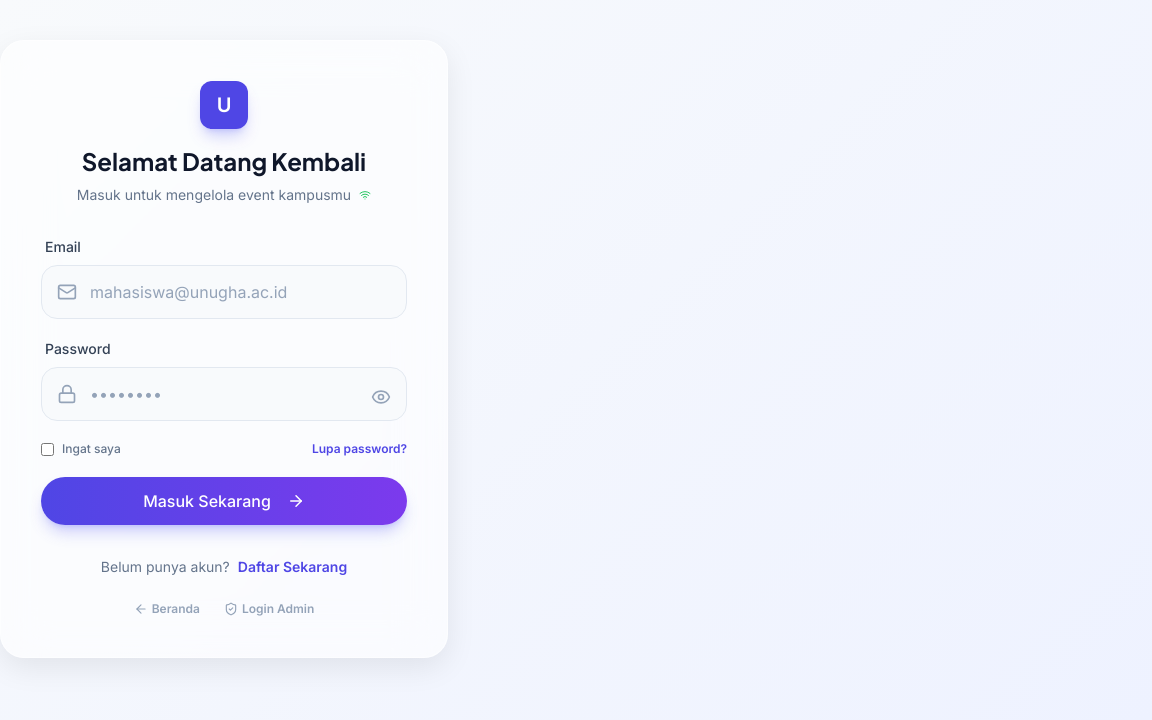
Test: Login Page › switches to register mode
Click the button "Daftar Sekarang". click: [292, 567]
box: [238,557,347,577]
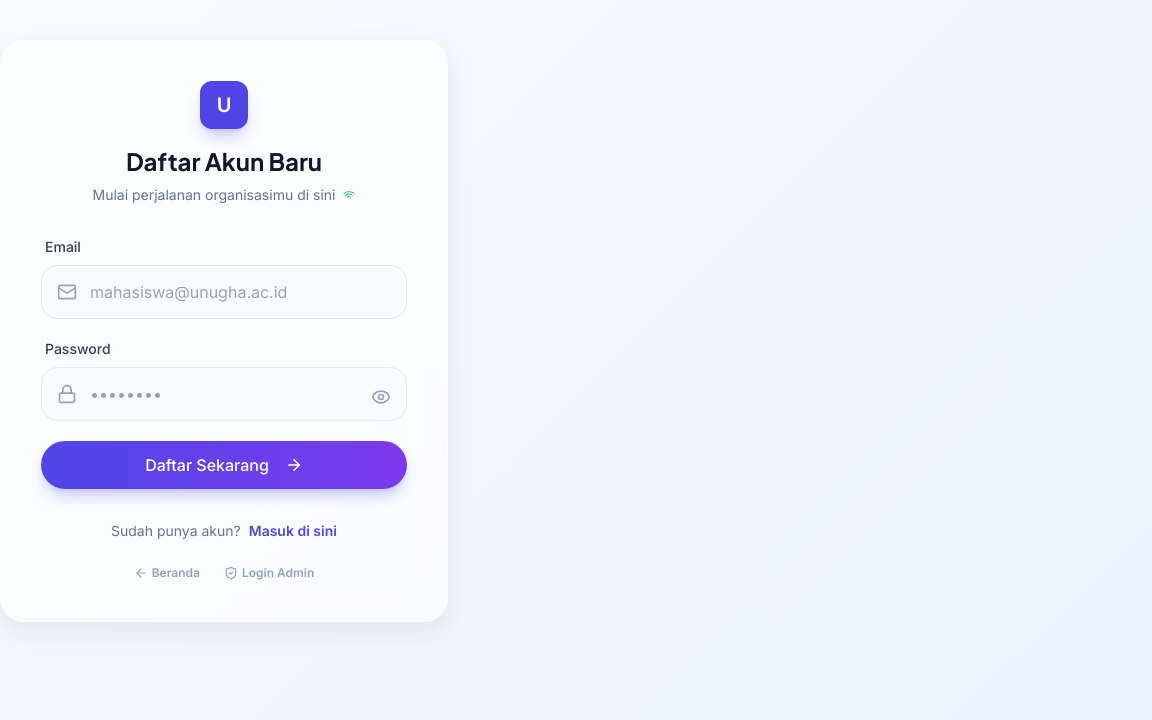
Now the heading "Daftar Akun Baru" is shown, box [126,146,322,176]
Now the button "Daftar Sekarang" is shown, box [41,441,407,489]
